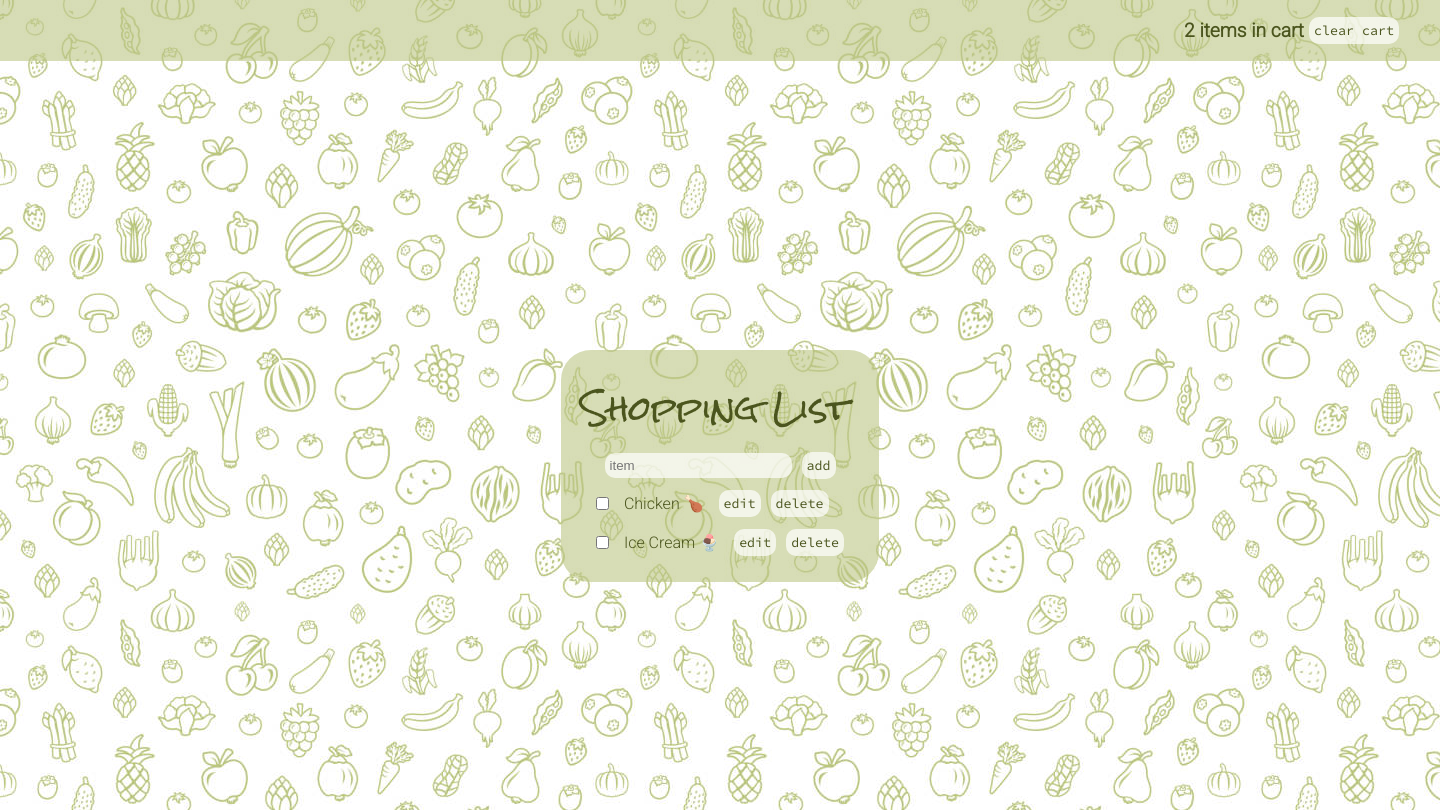
Test: clear cart clears the cart
What coordinates should you click on to do the following:
click the button labelled "clear cart"
I would click on:
 (1354, 31)
Its box is [1309,17,1399,44].
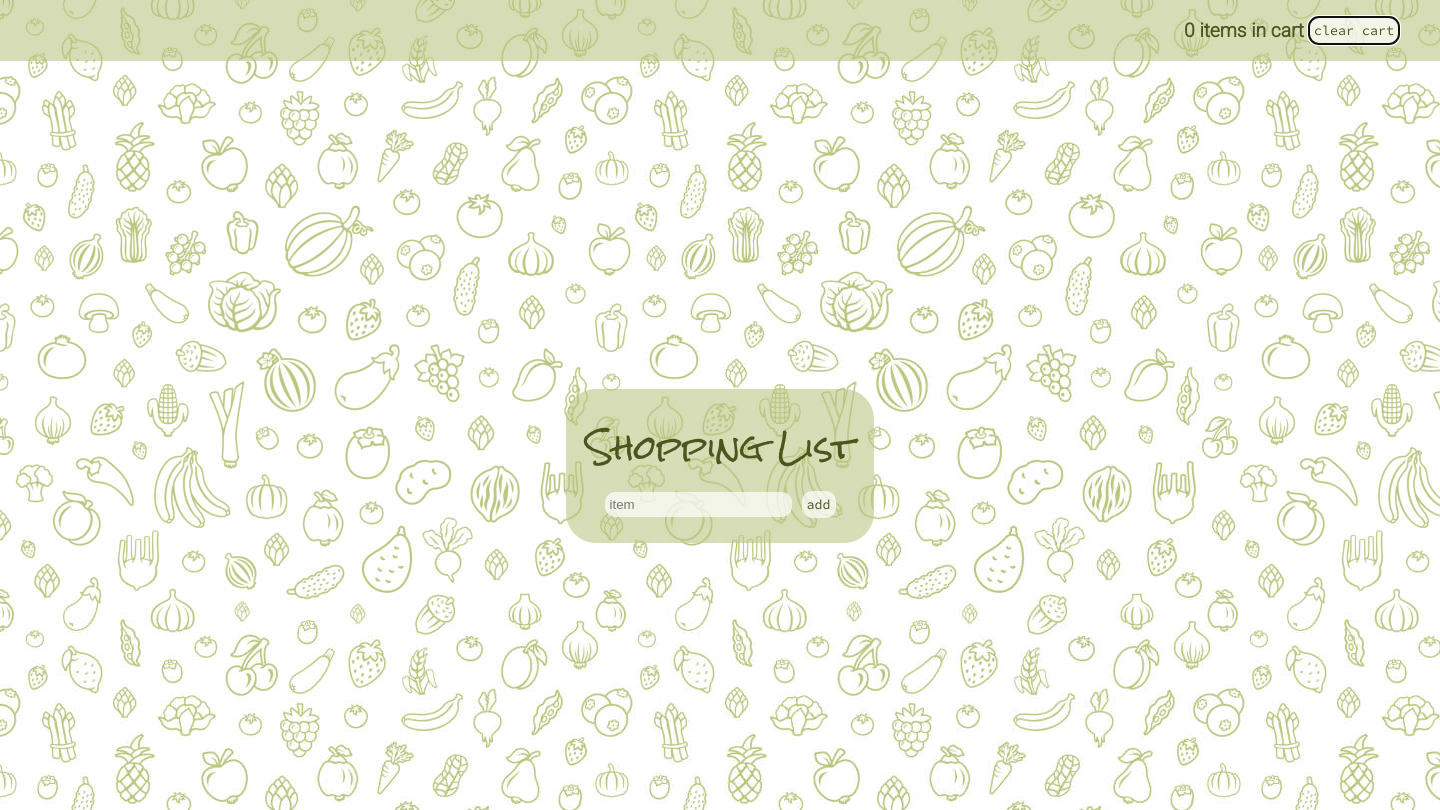
Expected: the text "Ice Cream 🍨" is gone
